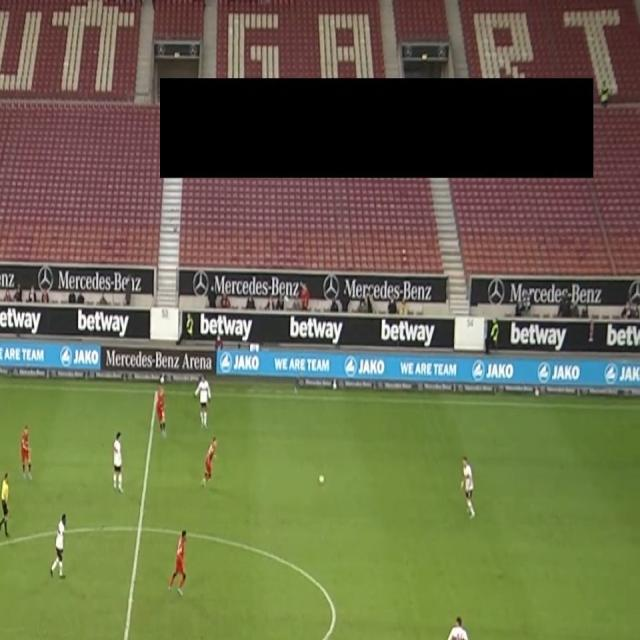ball: (318, 473, 325, 485)
